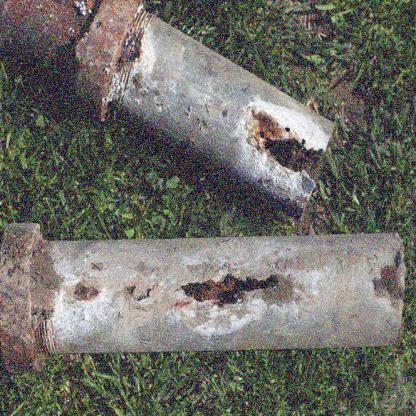burst: (182, 270, 290, 316), (251, 130, 315, 182)
